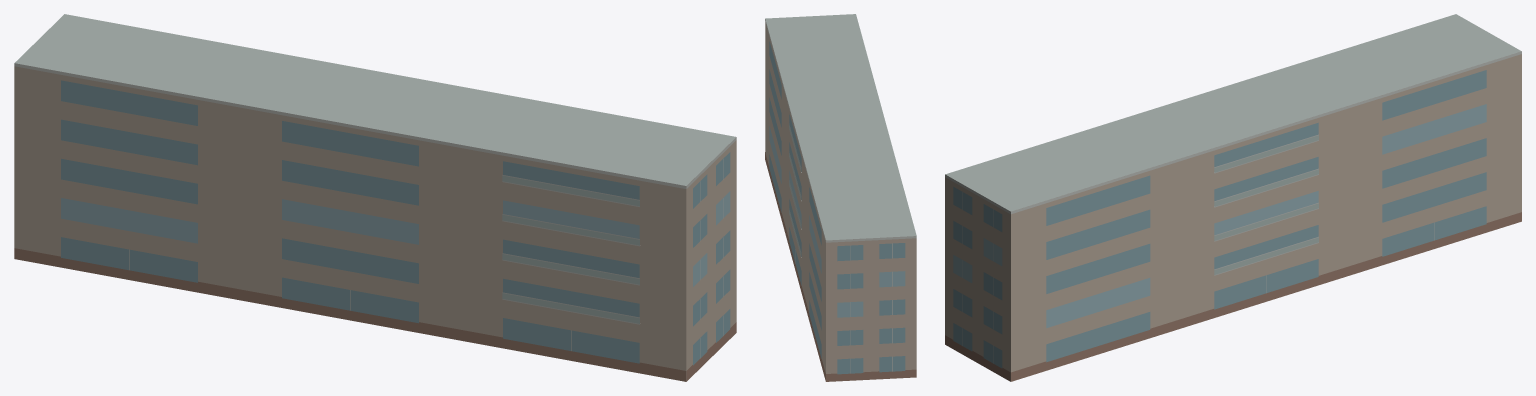
Rendered from survey-upis-32774046.glb.
3 views of the same model, side by side, from view 1: azimuth 30°, elevation 25°; view 2: azimuth 150°, elevation 25°; view 3: azimuth 270°, elevation 25° (orthographic). The views are drawn at different scales.
Parts seen in each view (by area): view 1: survey-upis-32774046.tmp; view 2: survey-upis-32774046.tmp; view 3: survey-upis-32774046.tmp.
Boxes of the visible parts, x1=… form: survey-upis-32774046.tmp: x1=14, y1=14, x2=736, y2=381; survey-upis-32774046.tmp: x1=765, y1=14, x2=916, y2=381; survey-upis-32774046.tmp: x1=945, y1=14, x2=1521, y2=381.
Bounding box in the file's own units: 37.85 × 15.2 × 46.67.
